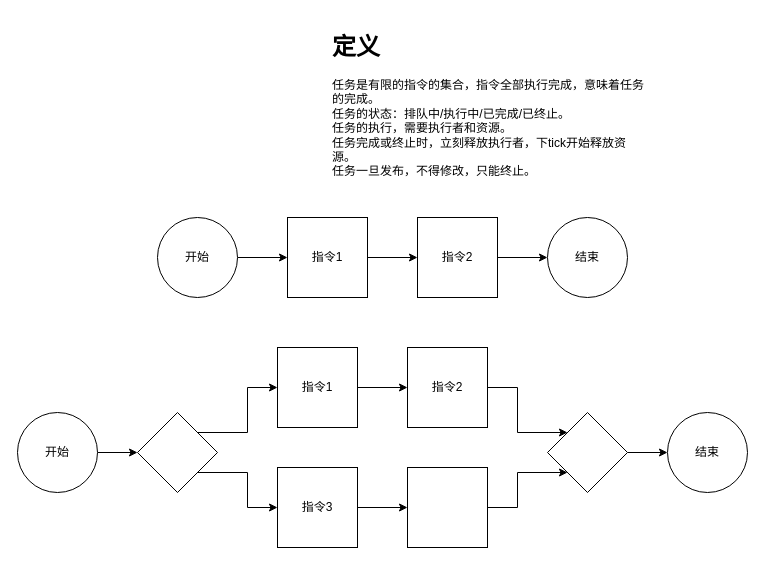
The diagram is 765 pixels wide and 565 high, and some of its shapes have lost their labels. Here are the shapes that lost their labels. From the top down, the centre of each, then its label:
At (x=177, y=452): "分流".
At (x=587, y=452): "合流 All/Any".
At (x=447, y=507): "指令4".
